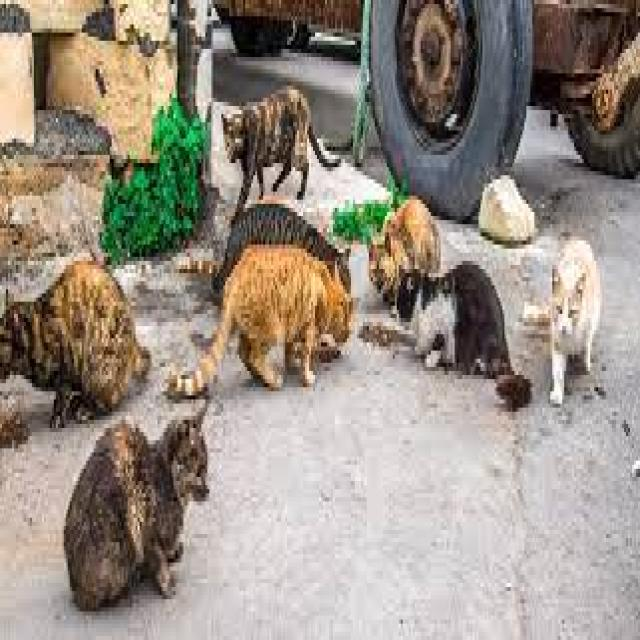cat: (64, 410, 208, 610), (169, 245, 352, 395), (0, 261, 150, 420), (396, 261, 531, 409), (223, 87, 340, 224), (524, 243, 600, 405), (212, 204, 350, 293), (370, 199, 440, 303)
